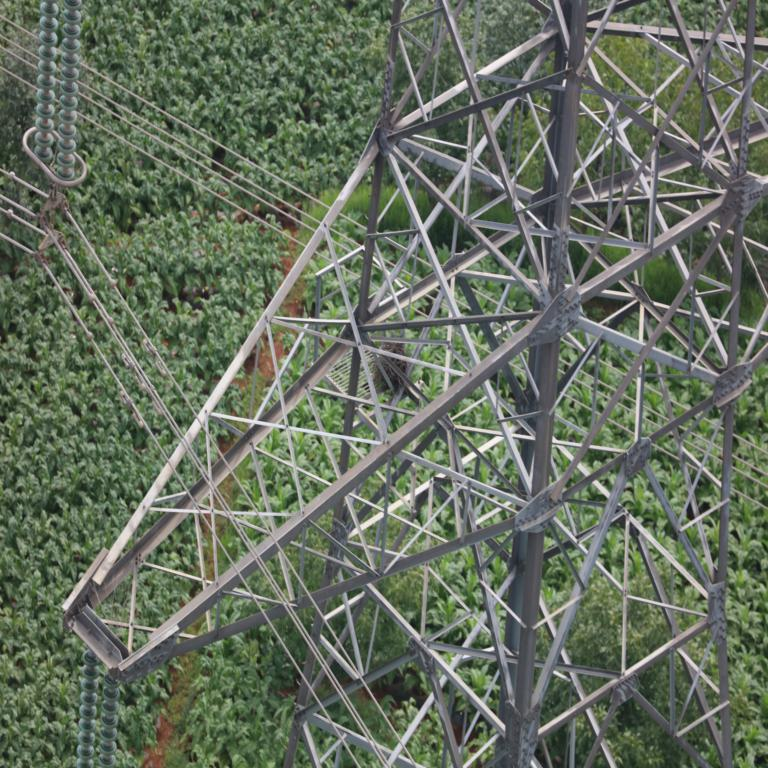nest: (373, 340, 406, 394)
